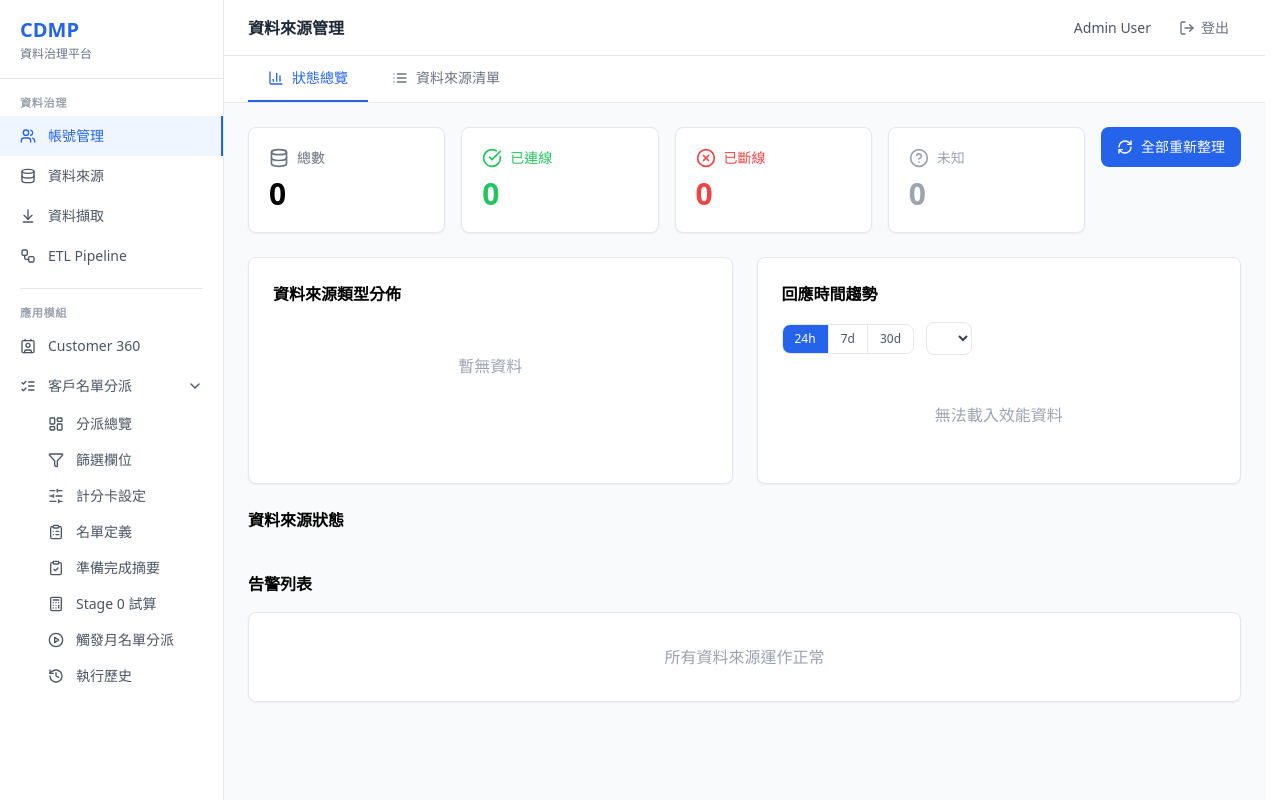
it: DatasourceListPage › 刪除資料來源 › should show confirmation modal when delete button clicked
Click the tab with test id "tab-list": coordinates (446, 79) [372,56,520,102]
Wait 1350 ms
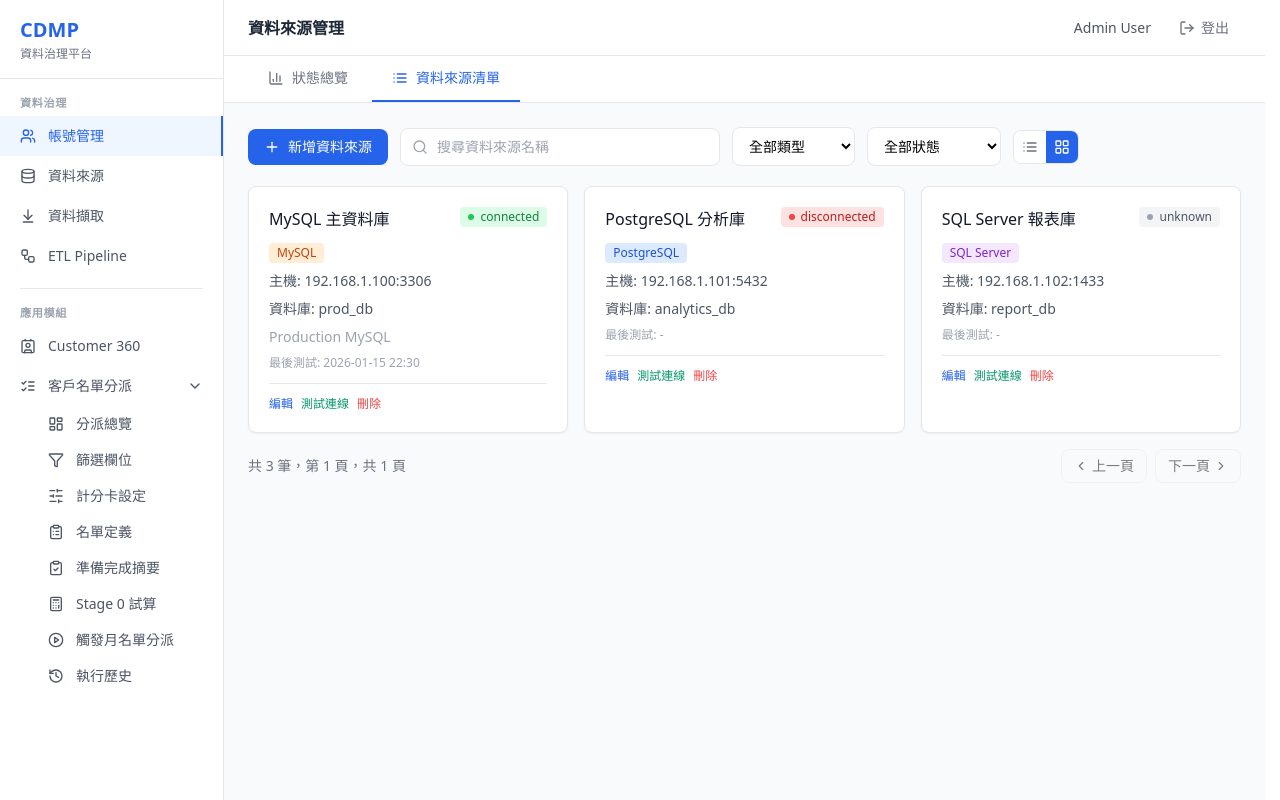
Click the button "刪除" below "2026-01-15 22:30": coordinates (369, 404) [357,396,381,412]
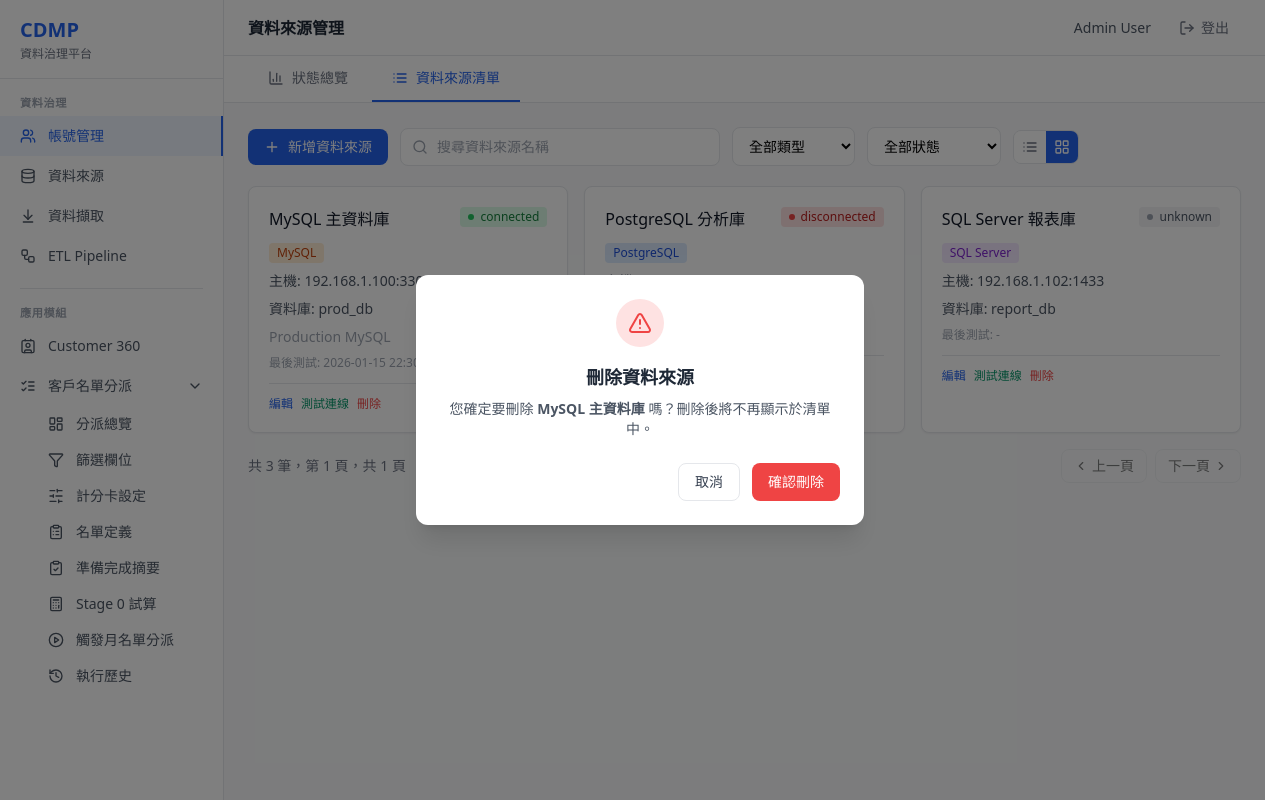
Now the heading "刪除資料來源" is shown, box [586,365,694,389]
Now the text "您確定要刪除 MySQL 主資料庫 嗎？刪除後將不再顯示於清單中。" is shown, box [440,399,840,439]
